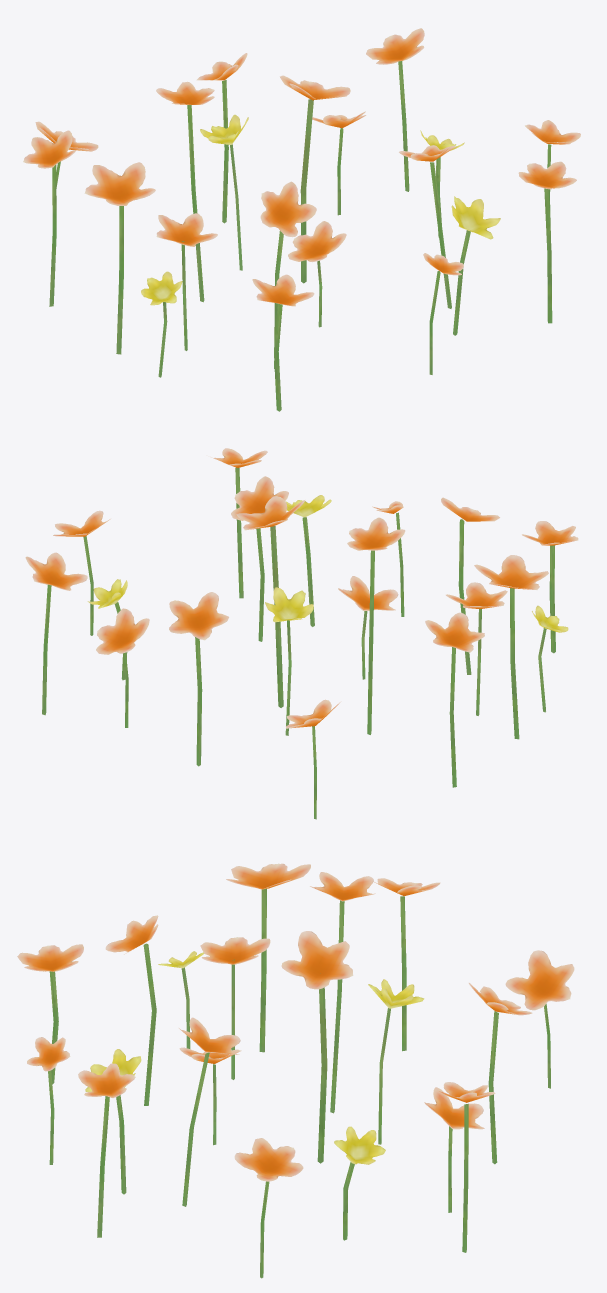
The model's file is P_DaffodilsOrange.obj.
3 renders of one model, top to bottom at view 1: azimuth 30°, elevation 25°; view 2: azimuth 150°, elevation 25°; view 3: azimuth 270°, elevation 25°, orthographic. The views are drawn at different scales.
Size of the model in its own units: 1.7 by 0.6891 by 1.54.
